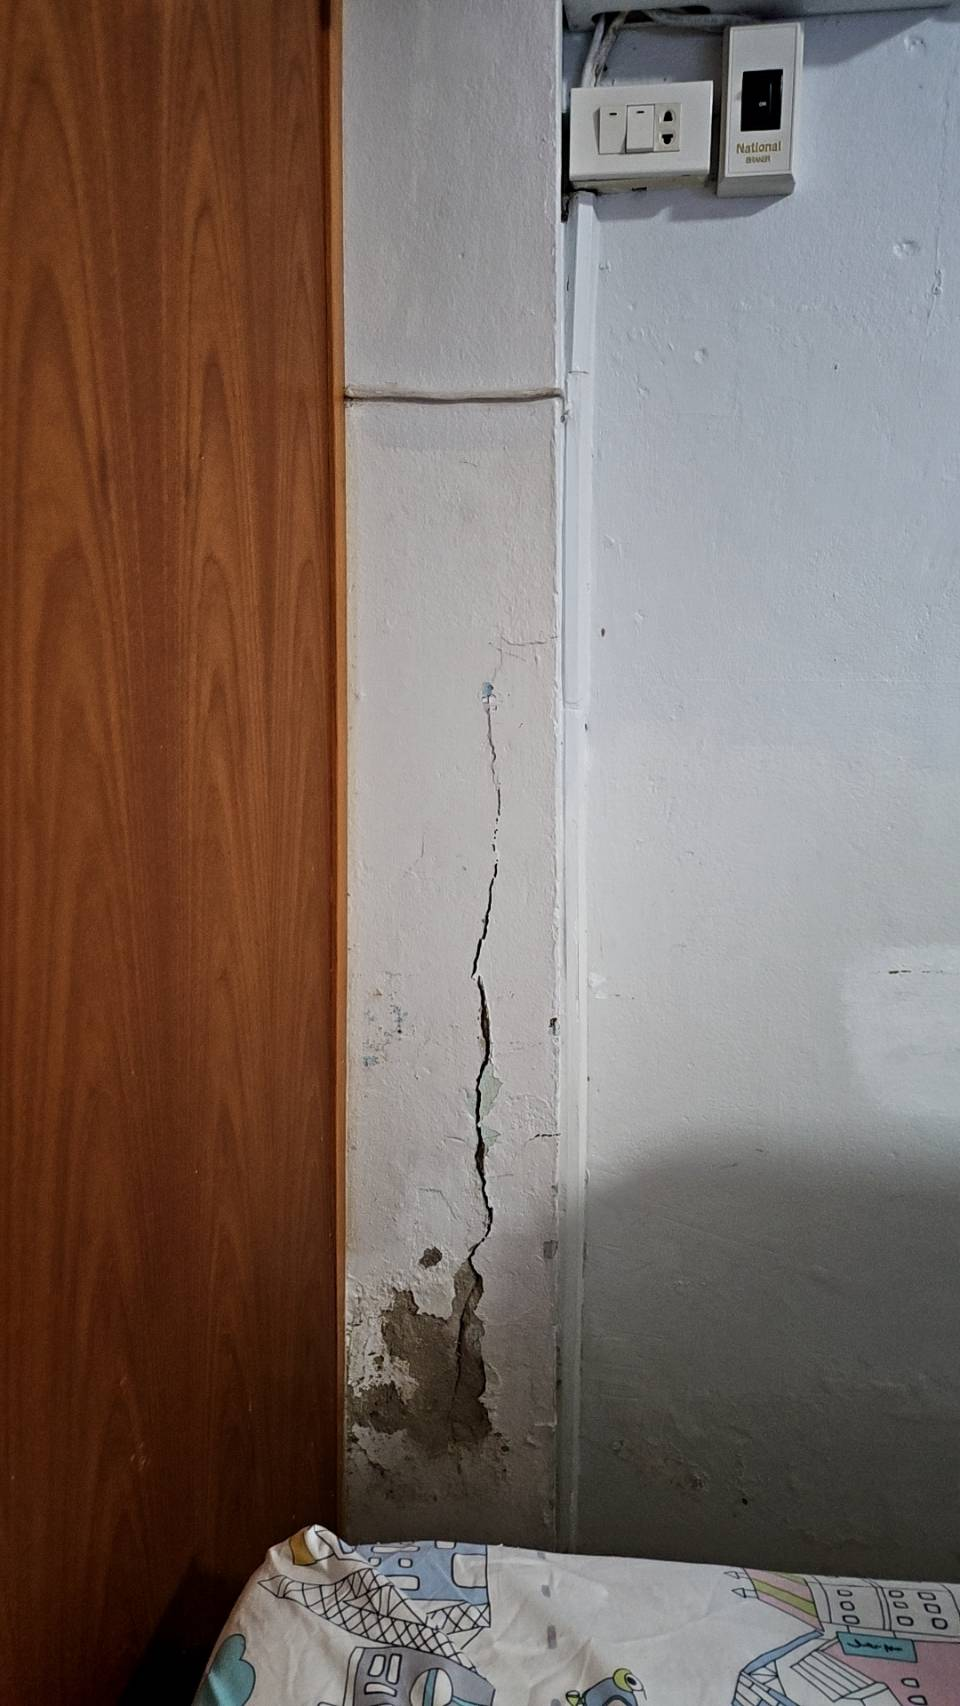High: (335, 373, 573, 1542)
